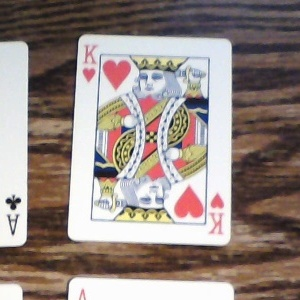card: (67, 32, 232, 246)
